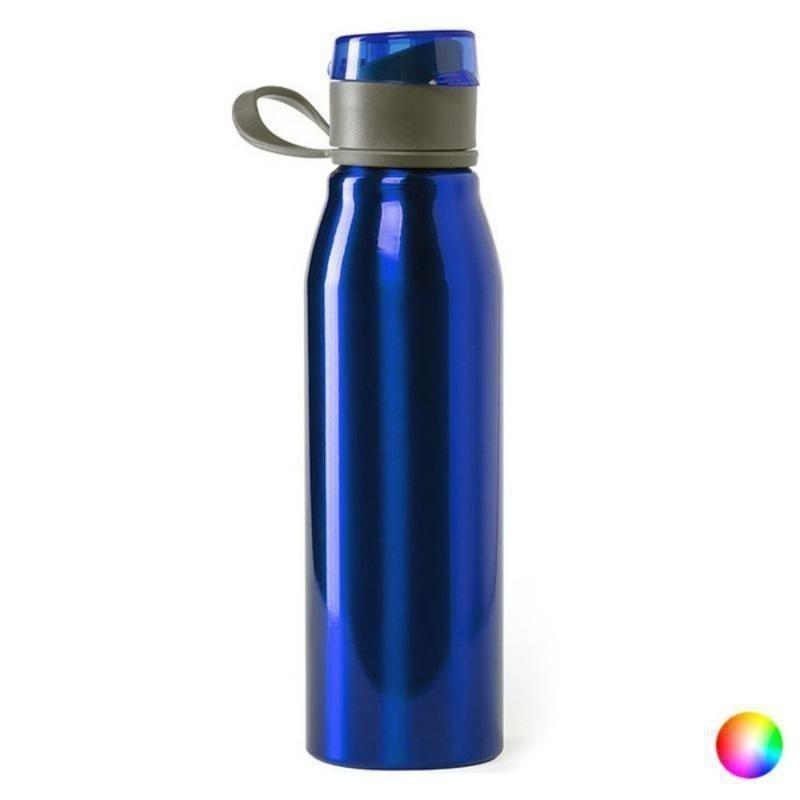gym bottle: (302, 27, 510, 771)
